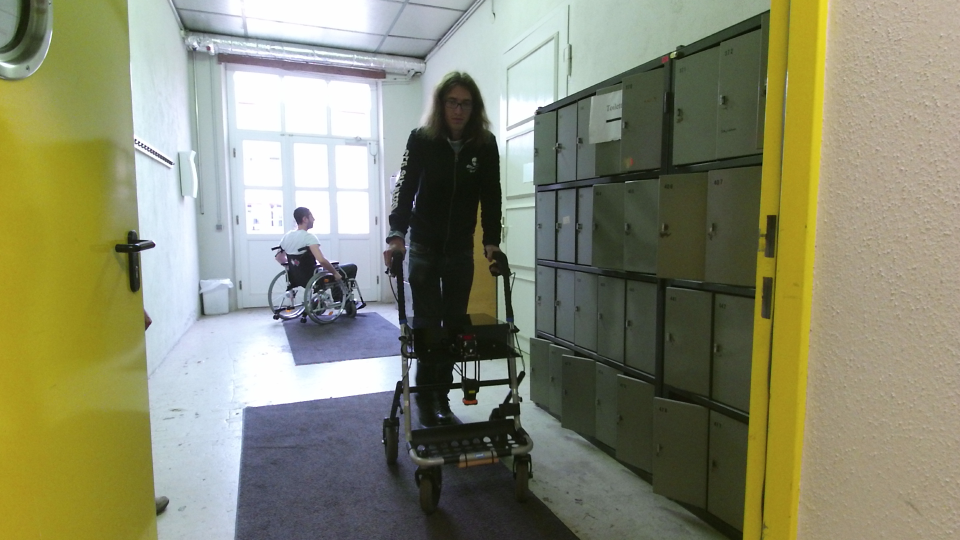wheelchair: (264, 200, 365, 330)
